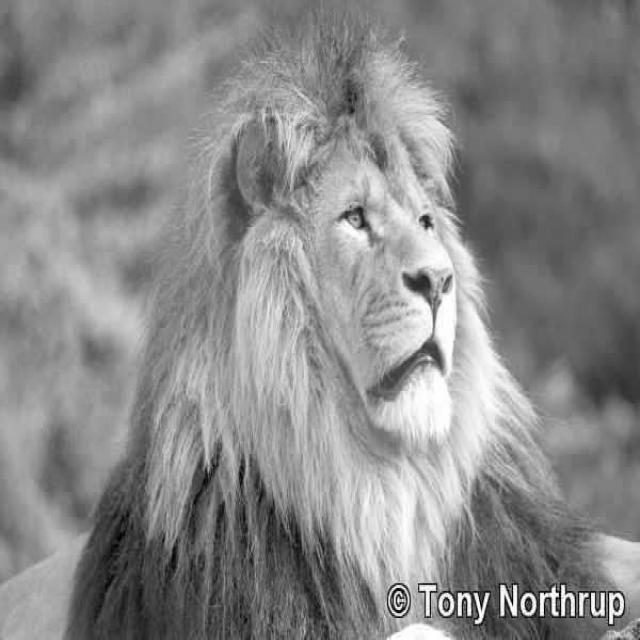Lion: (97, 21, 581, 640)
